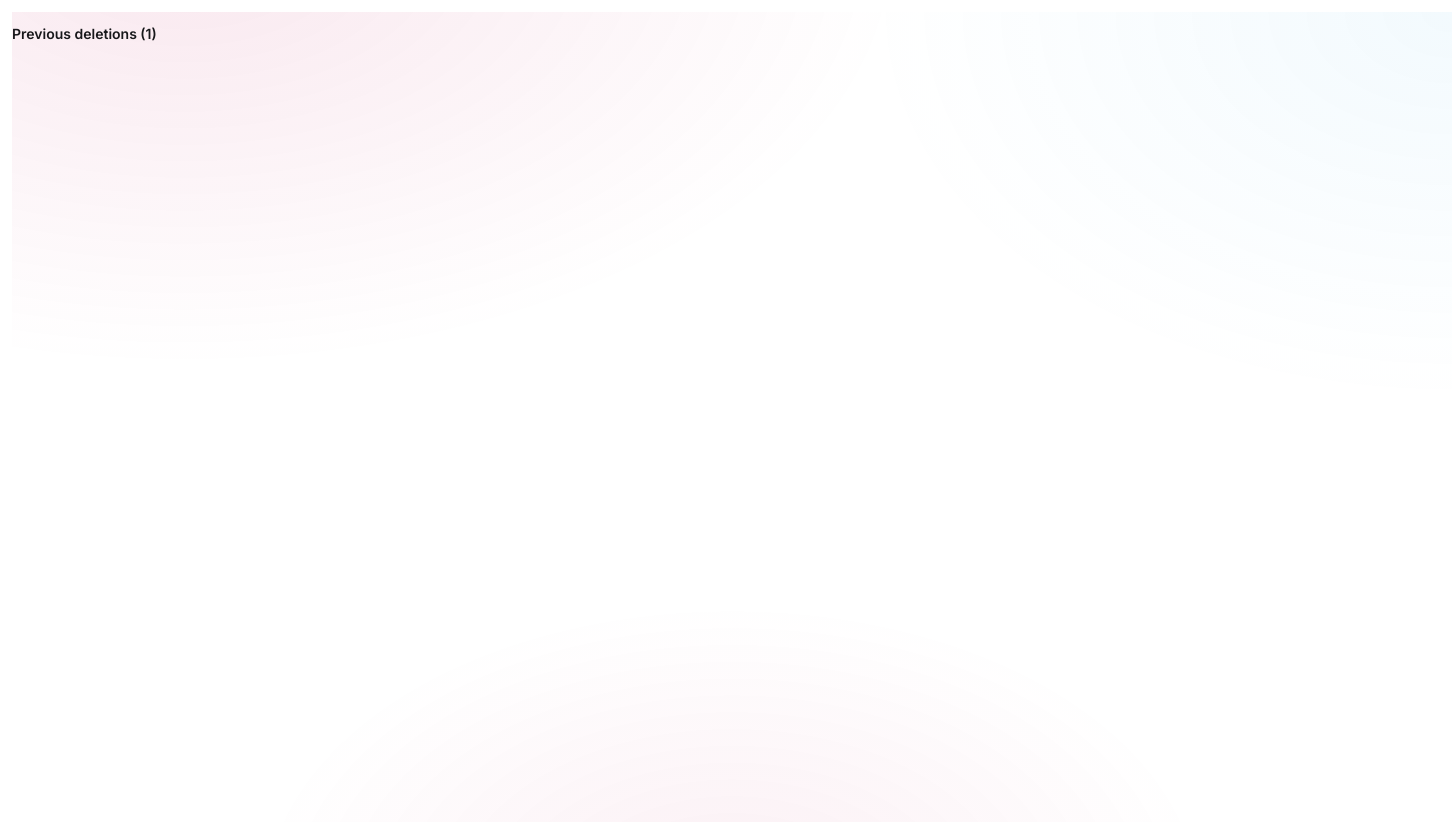
Test: CloudDeletionHistory › does not render a date when a Succeeded row's last operation is not a Delete
The width and height of the screenshot is (1452, 822).
Click the button "Previous deletions (1)".
click(84, 34)  # box left=12, top=12, right=157, bottom=56
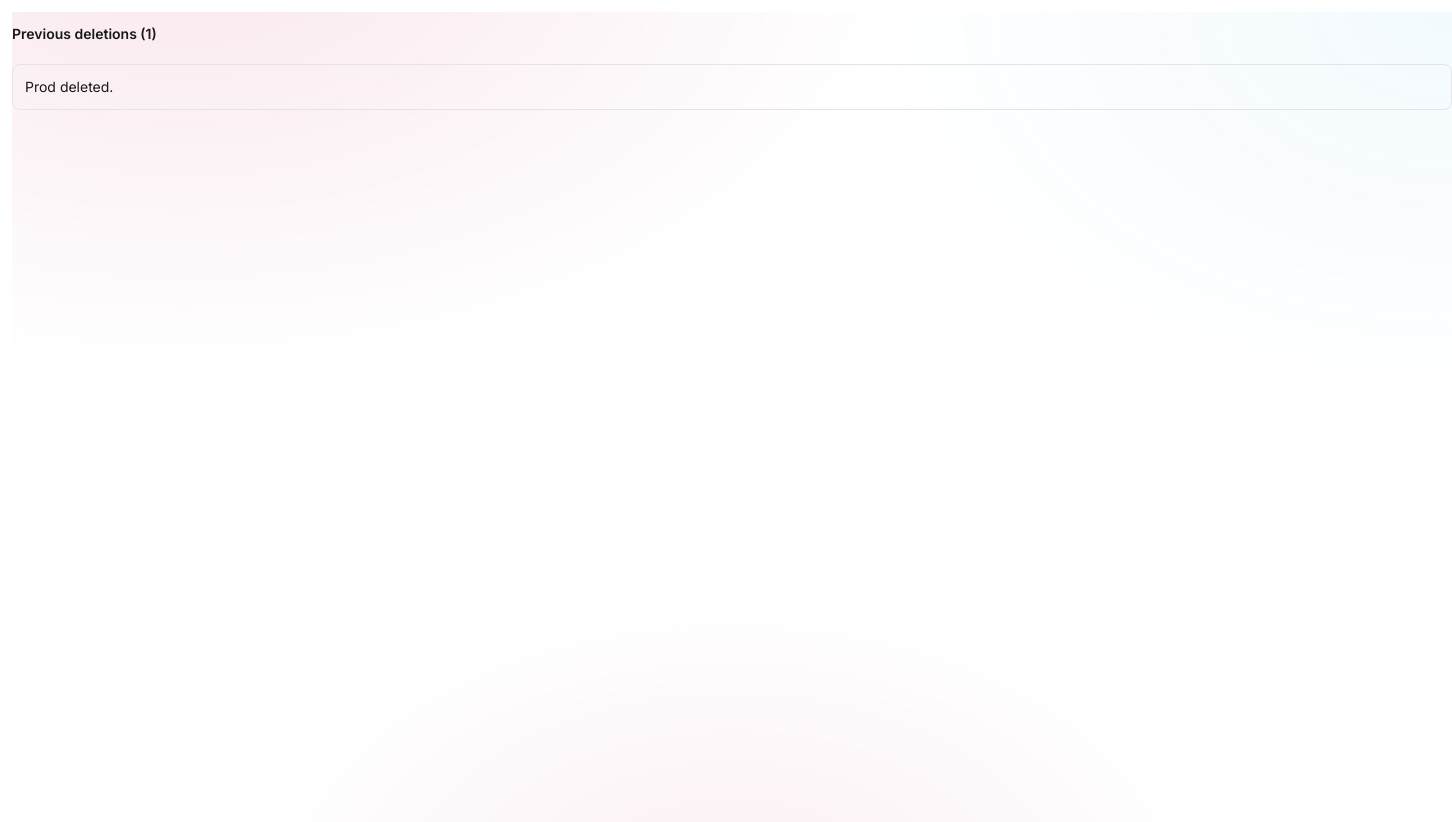
Check: the text "Prod deleted." is shown, box left=25, top=78, right=113, bottom=95
